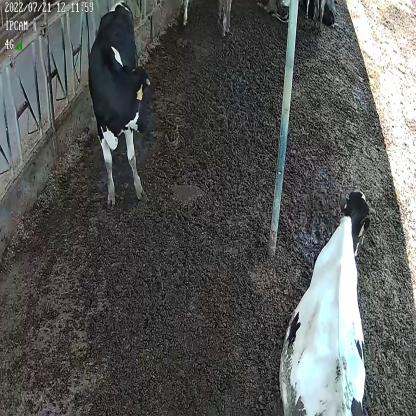cow: (280, 184, 372, 416), (88, 0, 153, 203)
